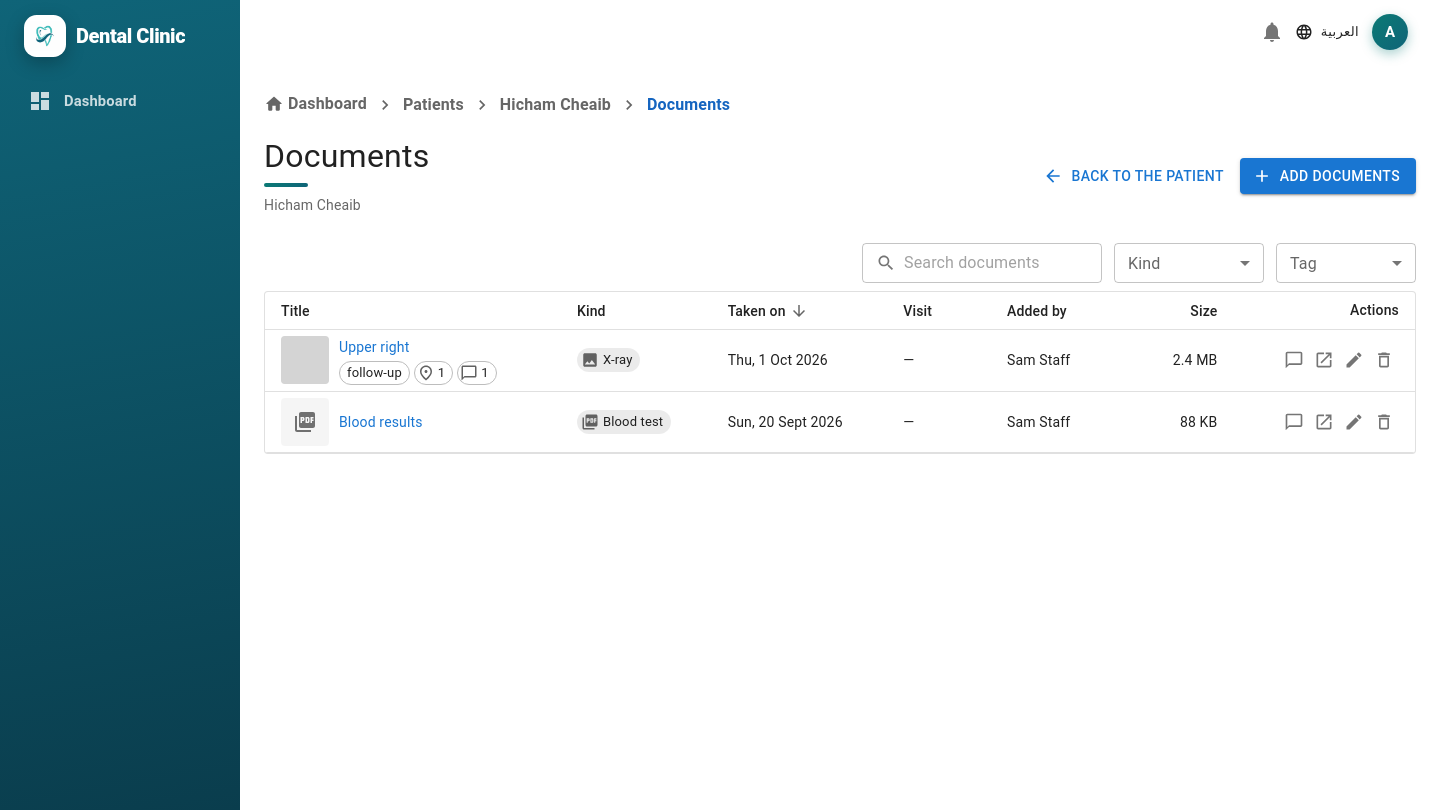
the viewer › is read only for someone who may not write notes
Check: the heading "Documents" is shown, box [264,137,430,175]
Click the button named "Comments, tags and marks of Upper right". click: (1294, 360)
box: [1279,346,1309,376]
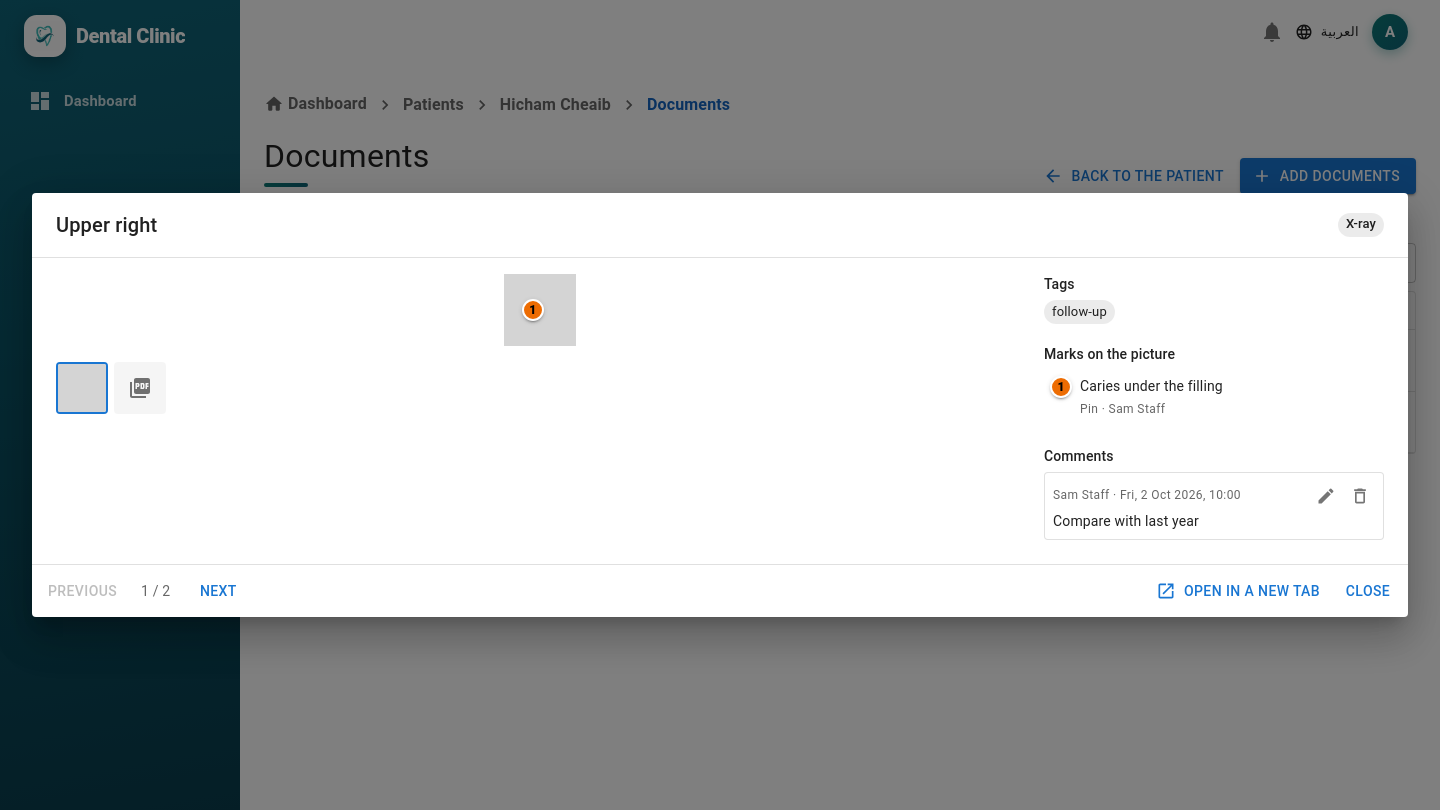
Check: the text "Compare with last year" is shown, box [1053,513,1199,529]
